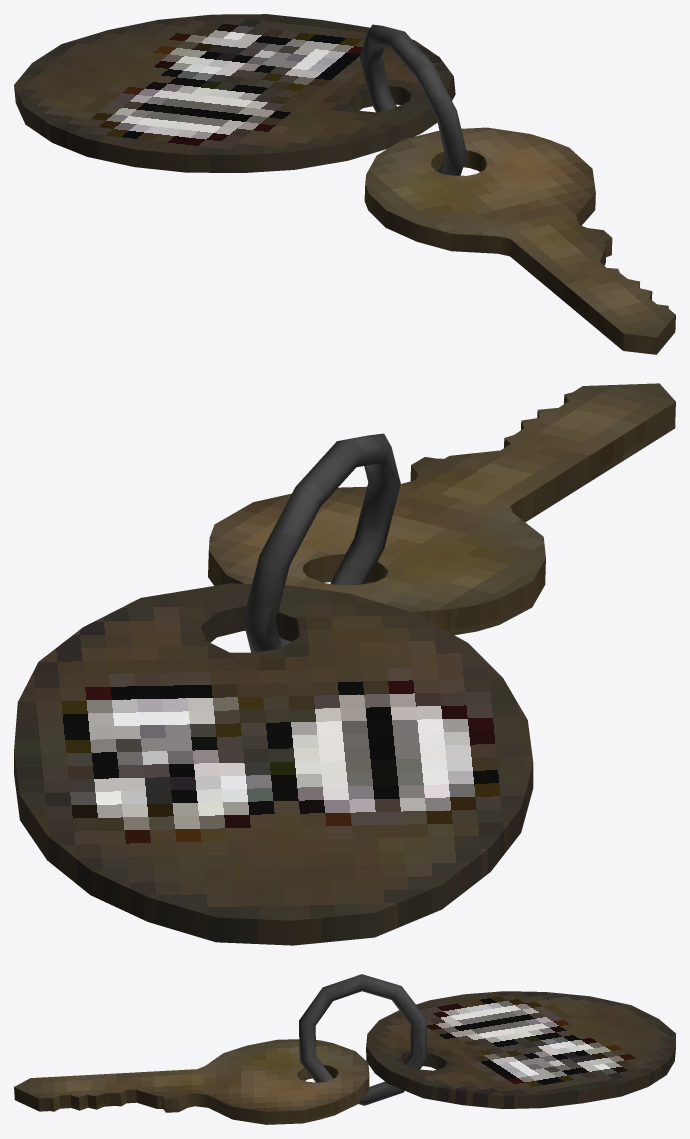
Rendered from key_mp_2.glb.
3 renders of one model, top to bottom at view 1: azimuth 30°, elevation 25°; view 2: azimuth 150°, elevation 25°; view 3: azimuth 270°, elevation 25°, orthographic. The views are drawn at different scales.
Parts seen in each view (by area): view 1: key_mp_2; view 2: key_mp_2; view 3: key_mp_2.
Part boxes in pixels (bbox=[...]): key_mp_2: bbox=[14, 14, 675, 354]; key_mp_2: bbox=[14, 383, 675, 945]; key_mp_2: bbox=[14, 974, 675, 1124].
Bounding box in the file's own units: 0.0623 × 0.027 × 0.137.
1 material, 1 textured.
